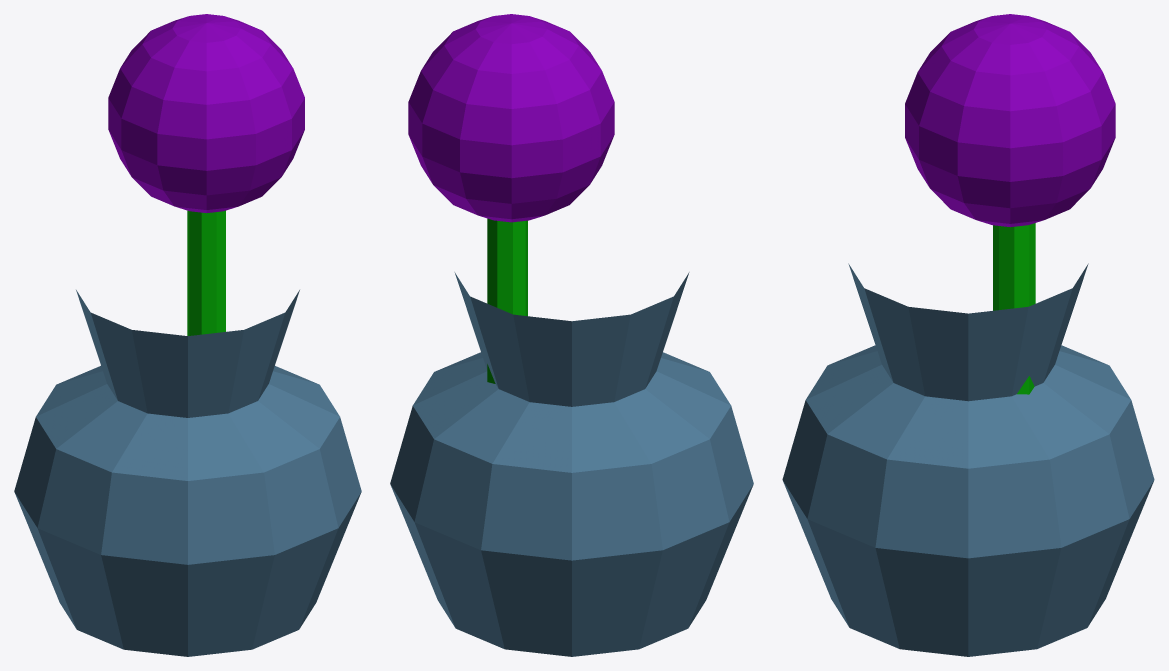
The model's file is bakuchiol1.glb.
3 views of the same model, side by side, from view 1: azimuth 30°, elevation 25°; view 2: azimuth 150°, elevation 25°; view 3: azimuth 270°, elevation 25° (orthographic). The views are drawn at different scales.
Size of the model in its own units: 0.2608 by 0.4603 by 0.2608.
